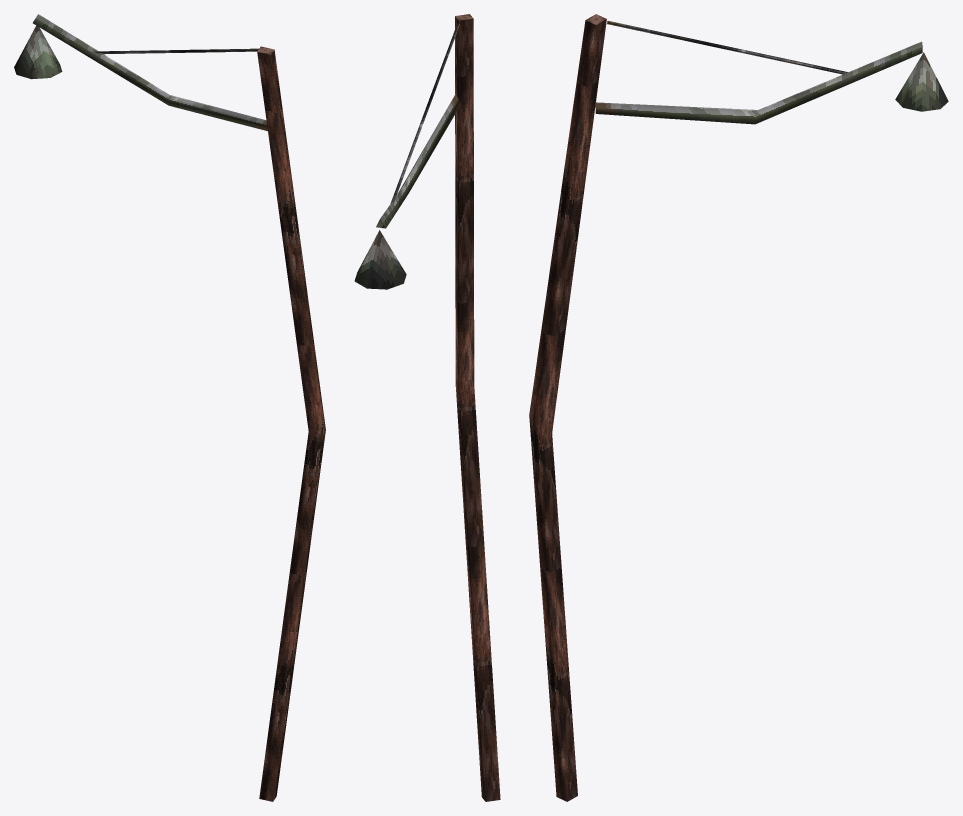
File: Environment - Vegetation - Old Street Lamppost - Damaged - PMOStrLmp_D.glb
3 renders of one model, left to right at view 1: azimuth 30°, elevation 25°; view 2: azimuth 150°, elevation 25°; view 3: azimuth 270°, elevation 25°, orthographic. The views are drawn at different scales.
Parts seen in each view (by area): view 1: PMOSTRLMP_D; view 2: PMOSTRLMP_D; view 3: PMOSTRLMP_D.
Boxes of the visible parts, x1,y1,x2,y2 form: PMOSTRLMP_D: [14, 14, 325, 801]; PMOSTRLMP_D: [354, 14, 500, 801]; PMOSTRLMP_D: [529, 14, 948, 801].
Bounding box in the file's own units: 5.63 × 30.34 × 14.69.
1 material, 1 textured.
